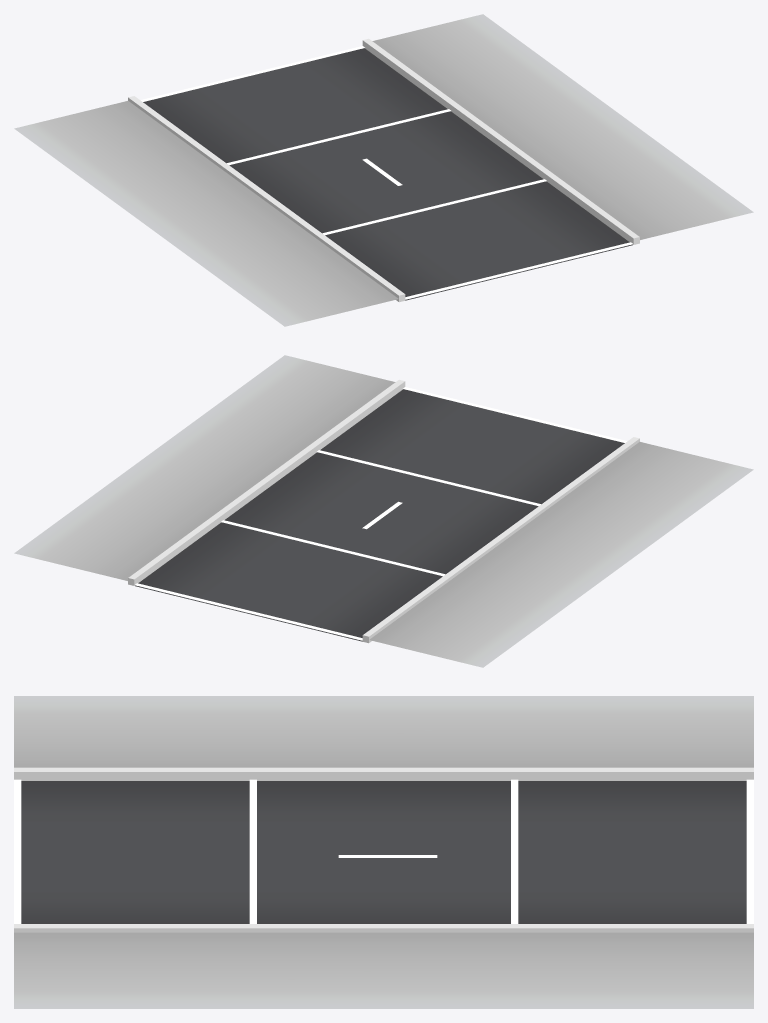
Rendered from city2-road-023.glb.
3 renders of one model, top to bottom at view 1: azimuth 30°, elevation 25°; view 2: azimuth 150°, elevation 25°; view 3: azimuth 270°, elevation 25°, orthographic. The views are drawn at different scales.
Visible parts, largest first — view 1: road_023; view 2: road_023; view 3: road_023.
Part boxes in pixels (x1,y1,x2,y2): road_023: (14,14,753,326); road_023: (14,355,753,667); road_023: (14,696,753,1008).
Bounding box in the file's own units: 15 × 0.2 × 15.
Materials: 1 (1 with a texture image).
